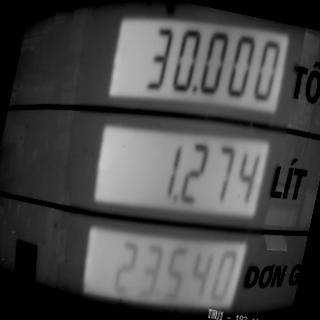screen: (49, 0, 302, 320)
